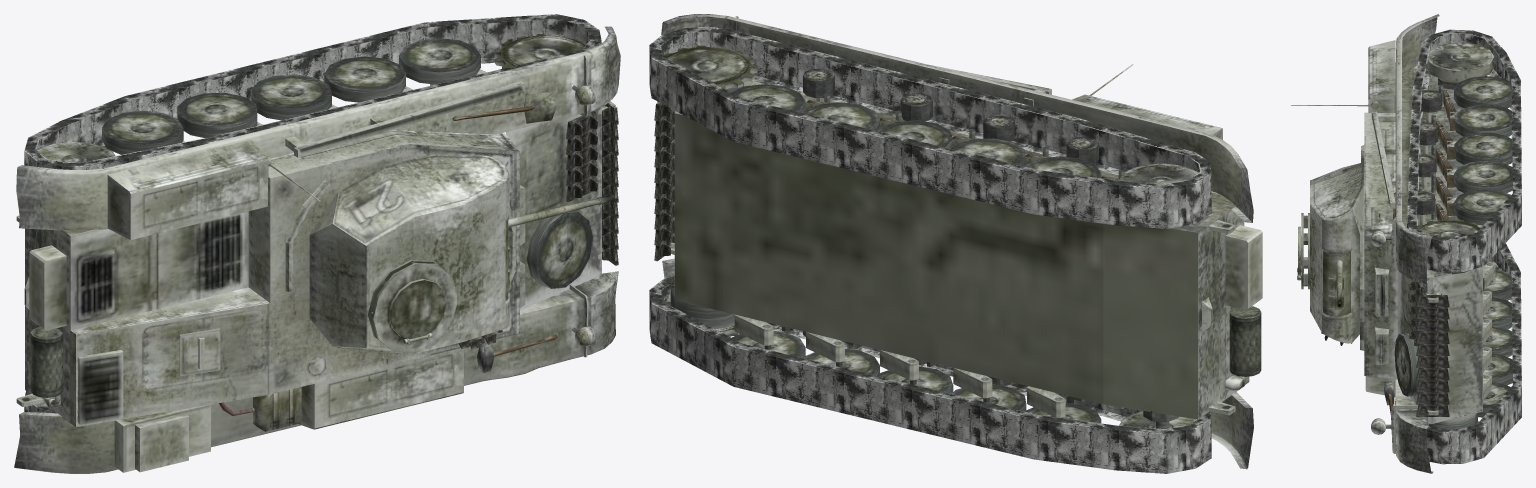
Rendered from vehicle_panzer_ii_winter_static.glb.
The picture shows the model from 3 angles, left to right: view 1: azimuth 30°, elevation 25°; view 2: azimuth 150°, elevation 25°; view 3: azimuth 270°, elevation 25°; orthographic projection. The views are drawn at different scales.
Bounding box in the file's own units: 239 × 115 × 103.
Materials: 2 (2 with a texture image).
